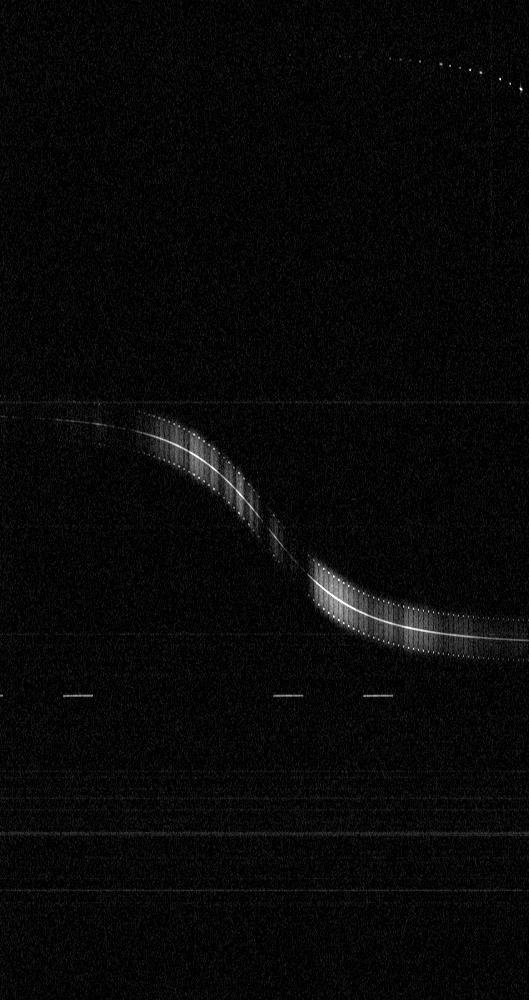signal: (0, 0, 528, 999)
